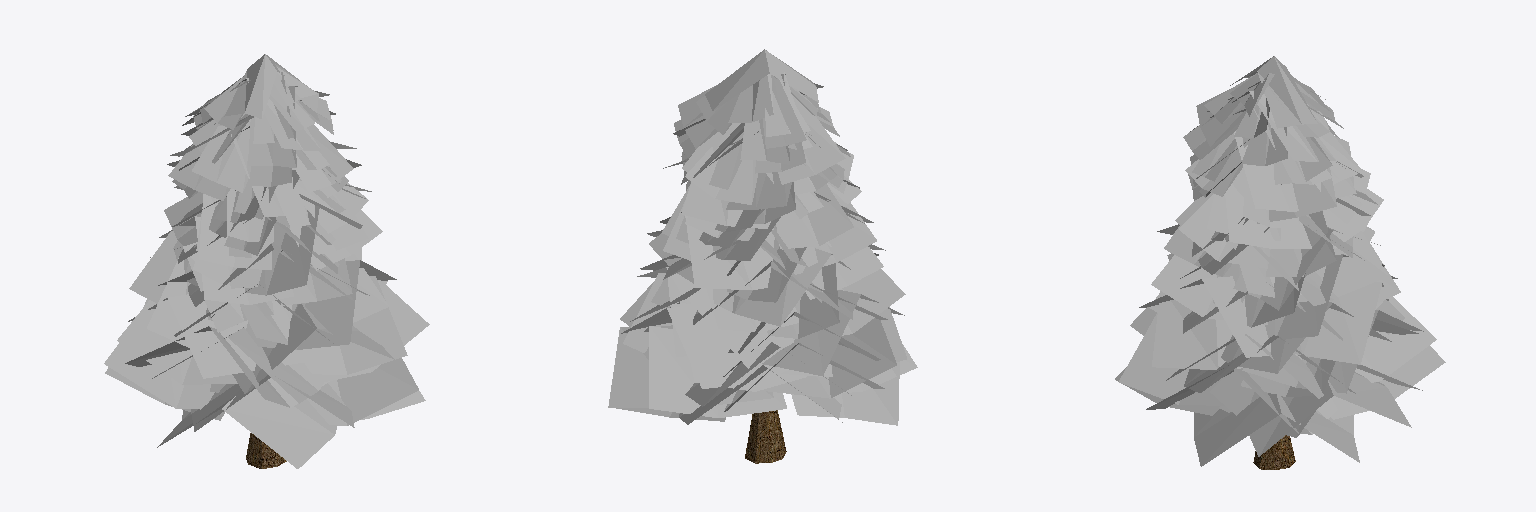
3 views of the same model, side by side, from view 1: azimuth 30°, elevation 25°; view 2: azimuth 150°, elevation 25°; view 3: azimuth 270°, elevation 25° (orthographic).
Parts seen in each view (by area): view 1: fir; view 2: fir; view 3: fir.
Part boxes in pixels (left/top/right/bottom): fir: left=104, top=54, right=429, bottom=468; fir: left=608, top=49, right=917, bottom=463; fir: left=1115, top=56, right=1445, bottom=469.
Bounding box in the file's own units: 11.69 × 16.77 × 12.41.
Materials: 2 (1 with a texture image).